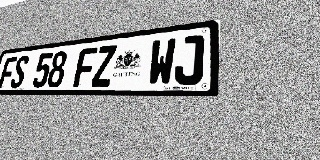5: (32, 52, 54, 88)
8: (46, 50, 69, 87)
F: (73, 47, 98, 87), (0, 56, 18, 88)
J: (173, 34, 205, 85)
S: (9, 55, 30, 88)
W: (147, 38, 176, 86)
Z: (91, 45, 117, 87)
